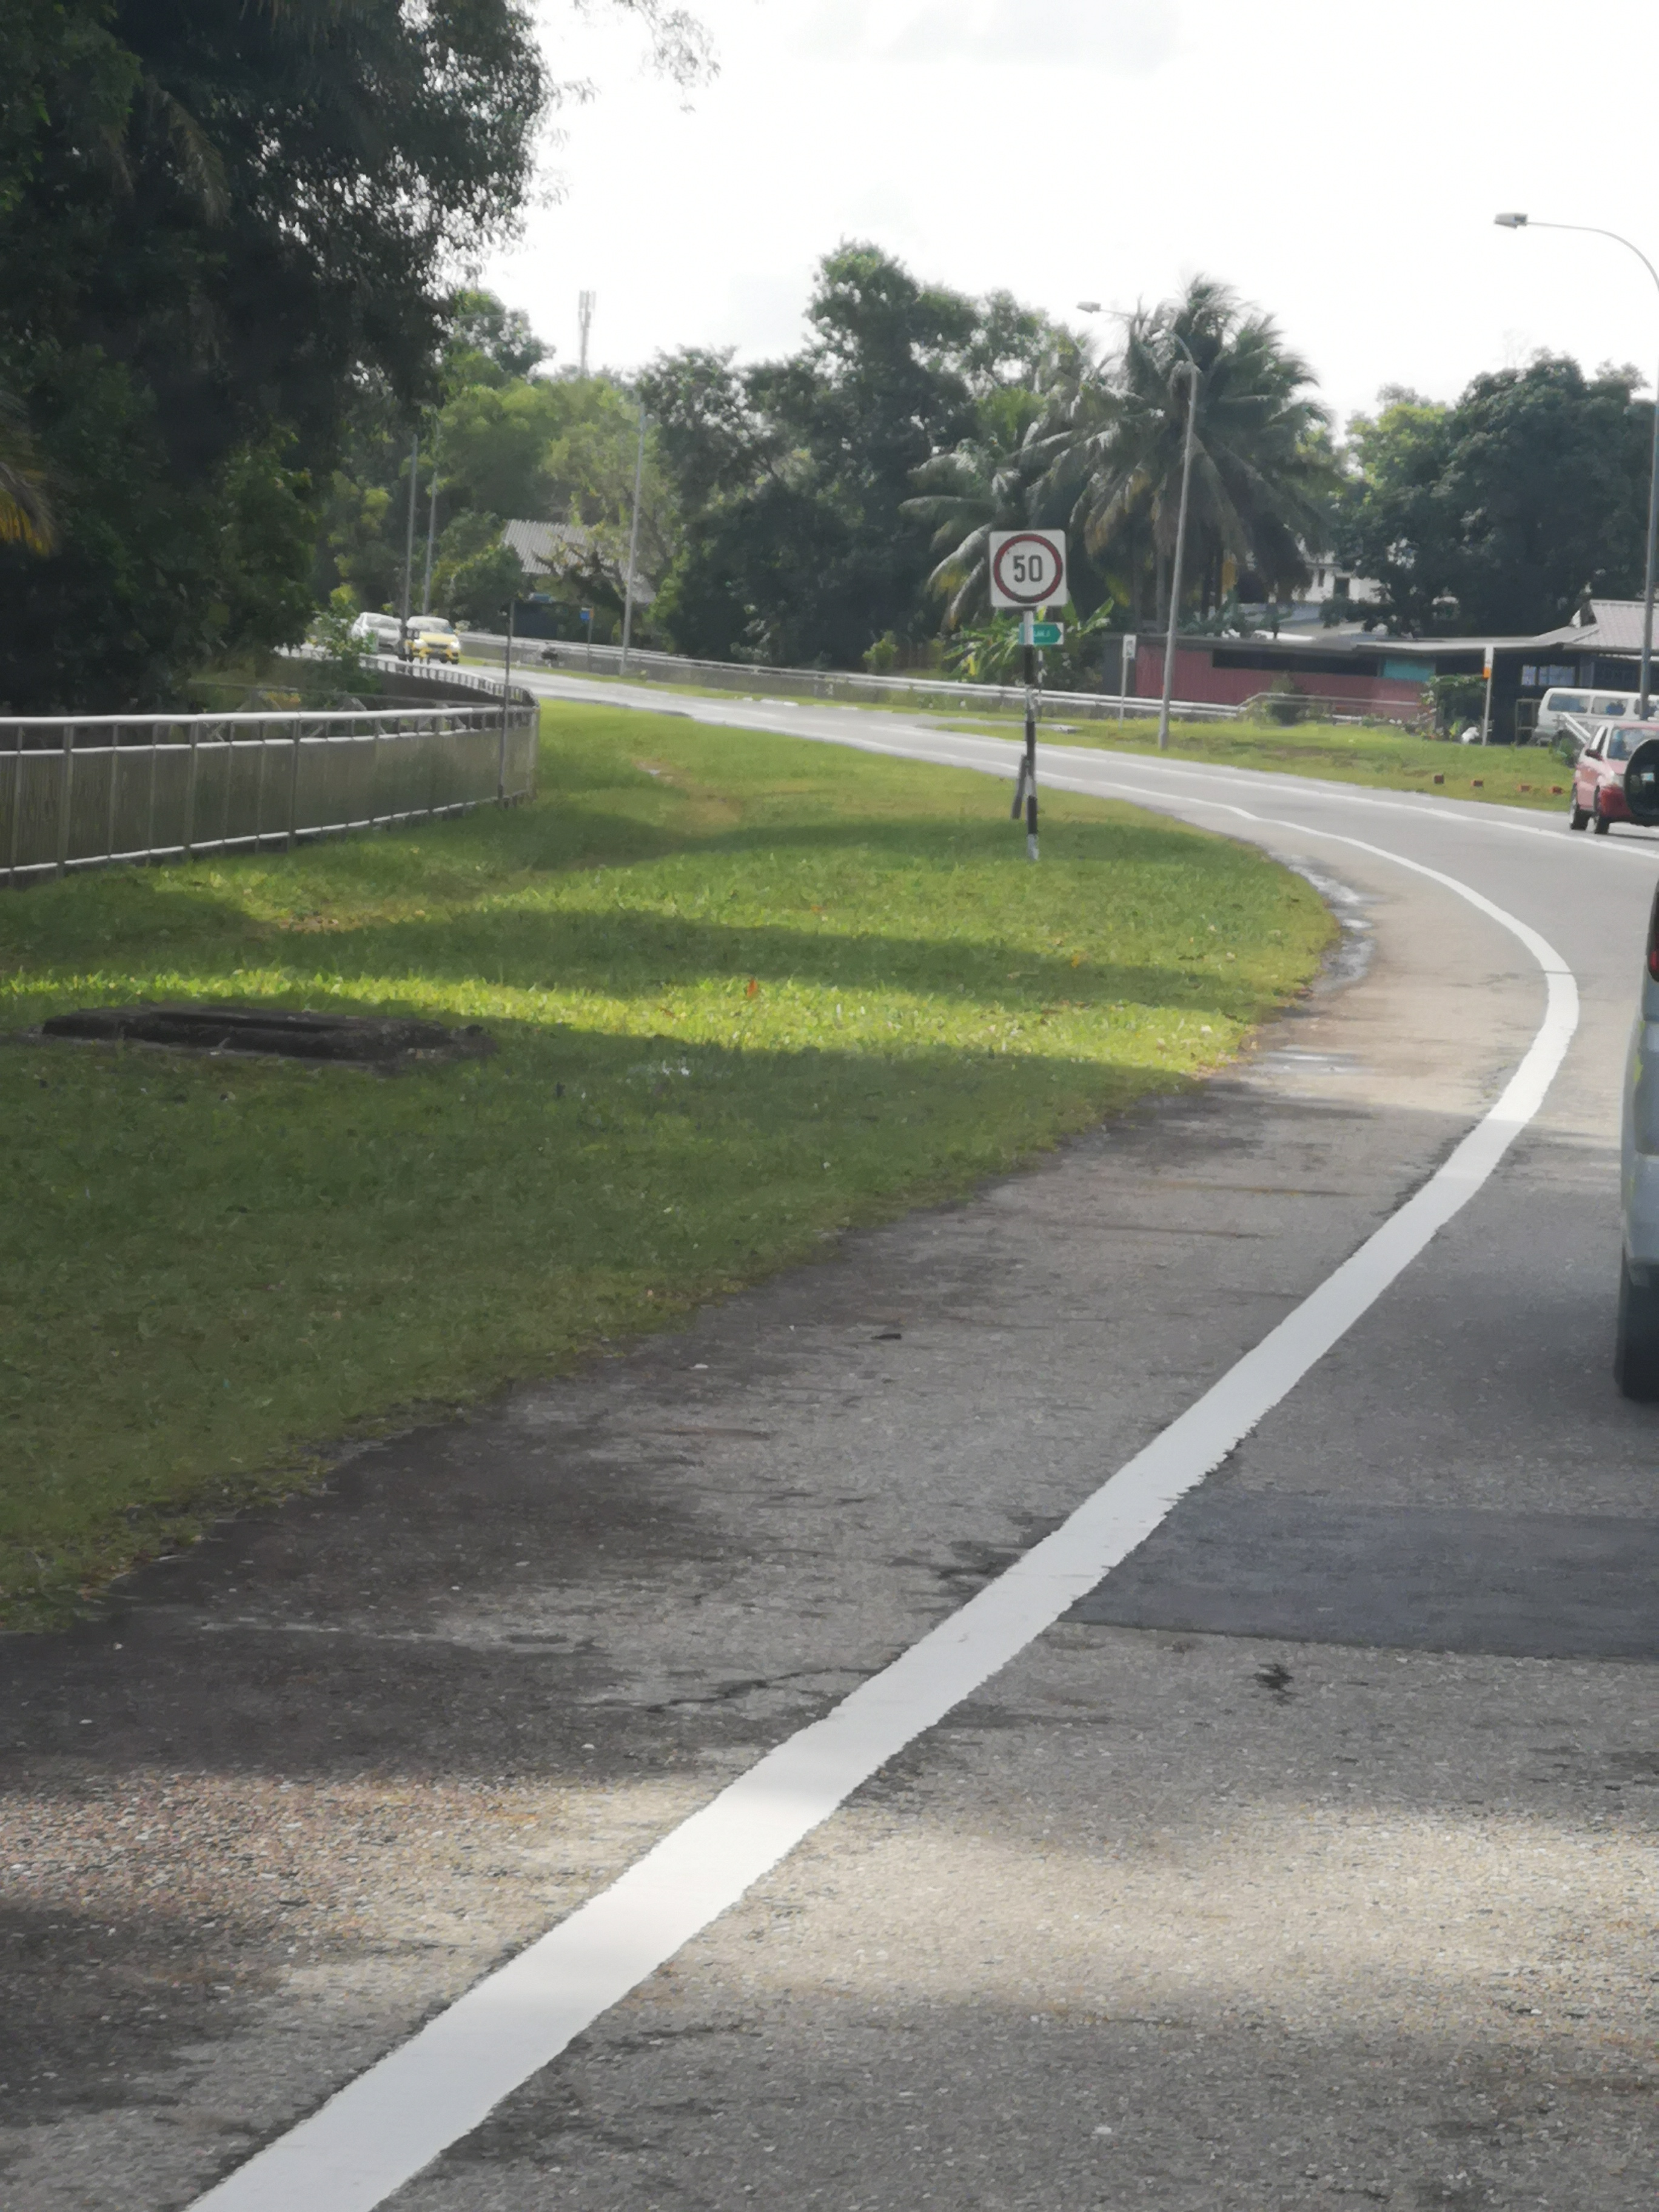speed limit 50: (983, 526, 1082, 613)
